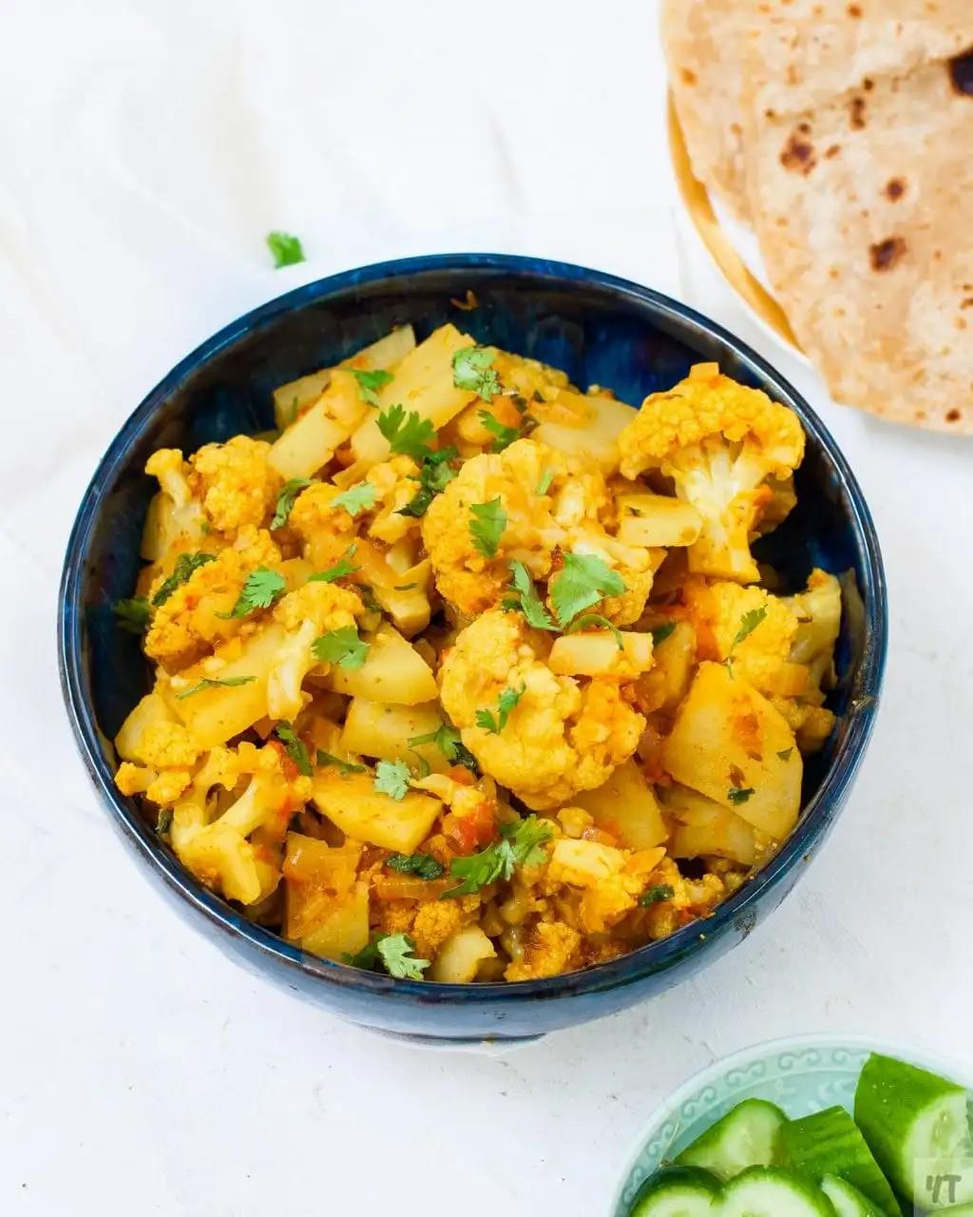AlooGobi: (112, 317, 855, 983)
